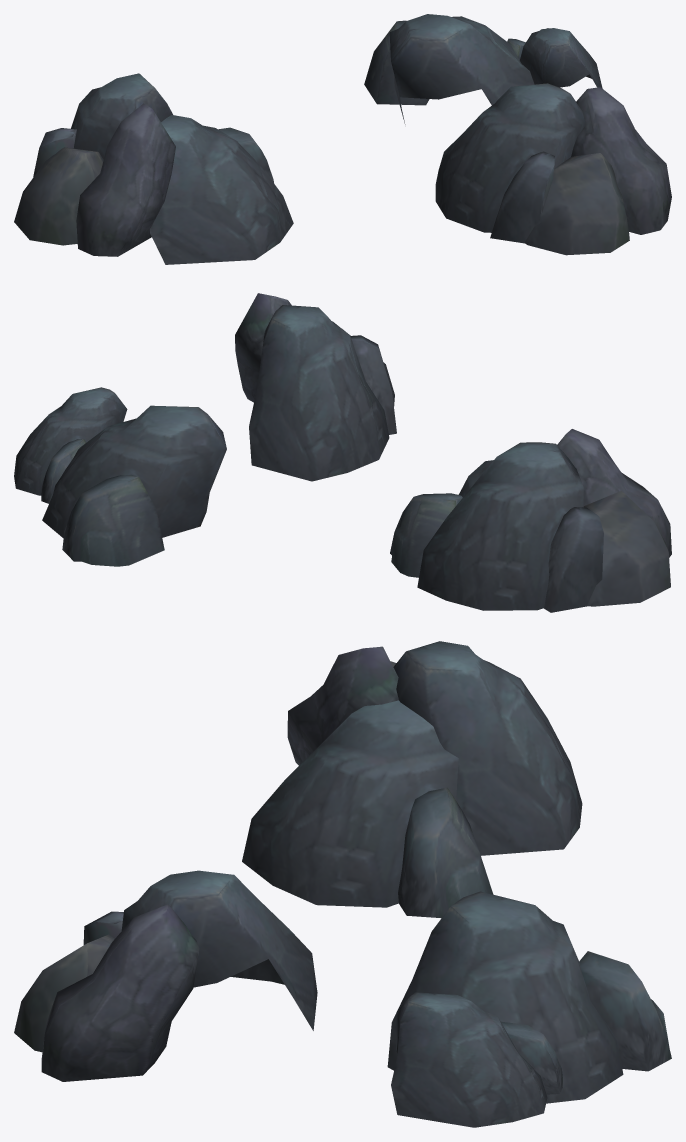
Rendered from Area_13_1.fbx.
3 renders of one model, top to bottom at view 1: azimuth 30°, elevation 25°; view 2: azimuth 150°, elevation 25°; view 3: azimuth 270°, elevation 25°, orthographic. The views are drawn at different scales.
Visible parts, largest first — view 1: Area_13_1; view 2: Area_13_1; view 3: Area_13_1.
Part boxes in pixels (x1,y1,x2,y2): Area_13_1: (14, 14, 671, 264); Area_13_1: (14, 293, 671, 612); Area_13_1: (14, 641, 671, 1127).
Bounding box in the file's own units: 5168 × 1100 × 3700.
